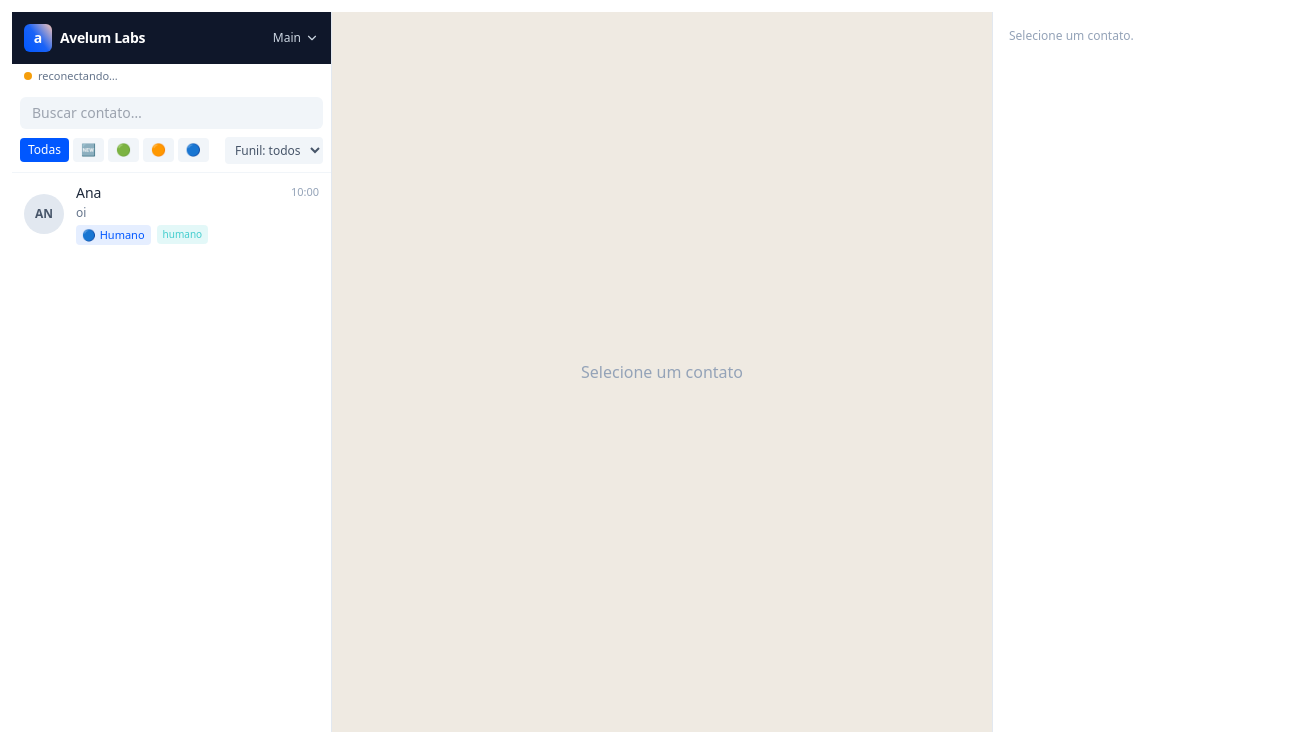
Scenario: end-to-end read-only: boot → pick contact → read conversation
What coordinates should you click on to do the following:
click the text "Ana"
I would click on:
 (89, 192)
Its box is x1=76 y1=182 x2=102 y2=202.
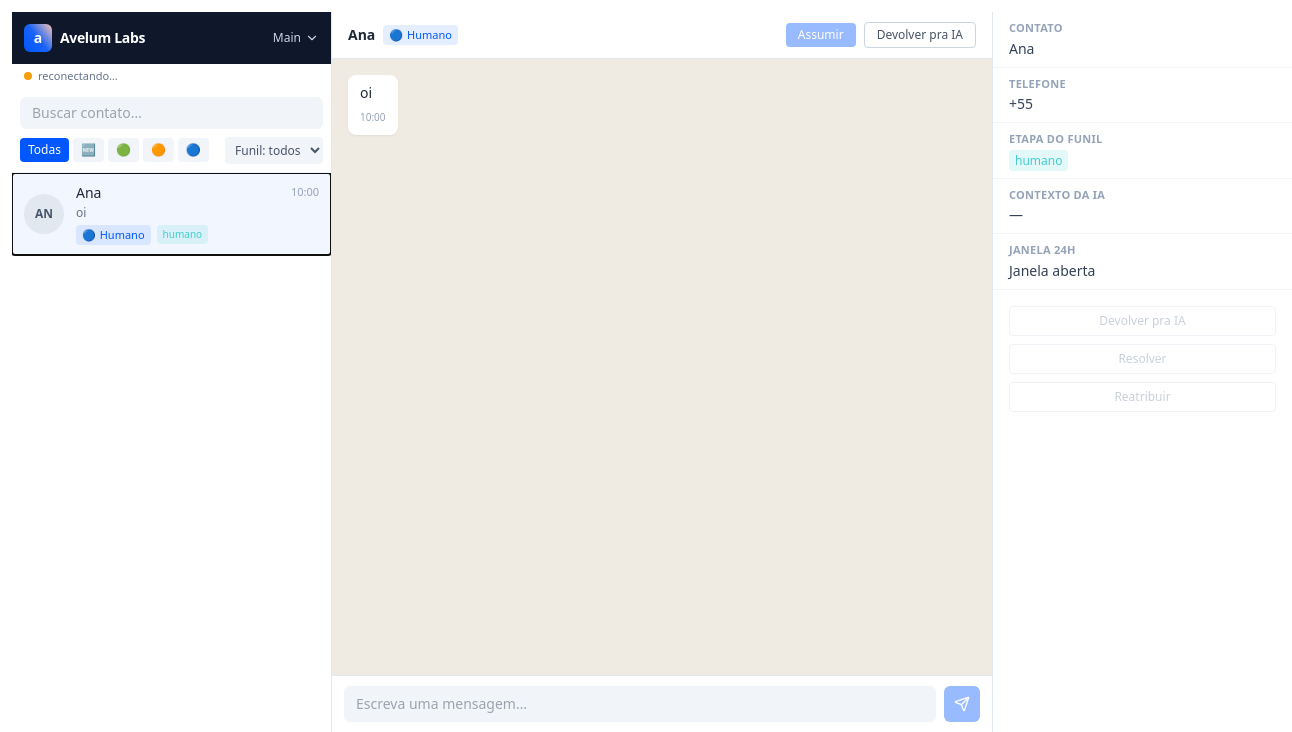
Expected: the 2nd text "oi" is shown, x1=76 y1=204 x2=86 y2=220
Result: the button with test id "btn-takeover" is disabled at x1=786 y1=23 x2=856 y2=47
